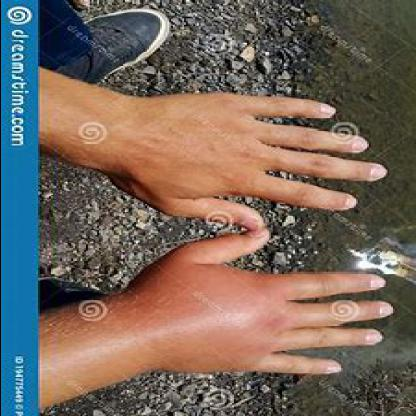Wasp: (143, 264, 280, 368)
